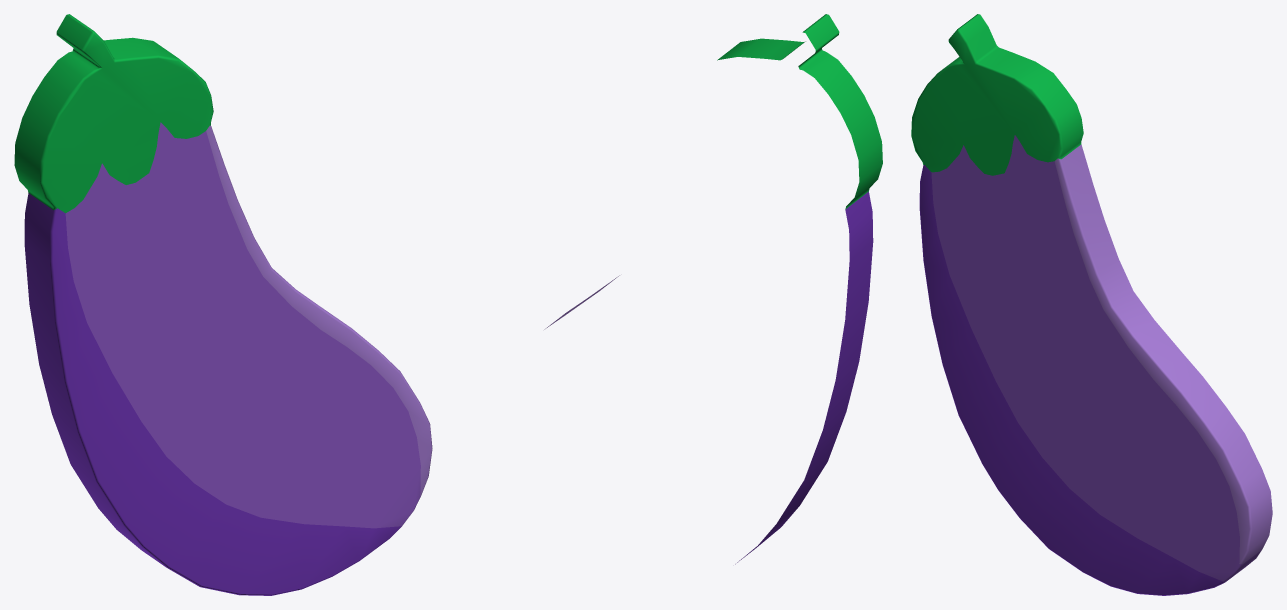
File: Store_19_Eggplant_Sign_1.glb
3 renders of one model, left to right at view 1: azimuth 30°, elevation 25°; view 2: azimuth 150°, elevation 25°; view 3: azimuth 330°, elevation 25°, orthographic. The views are drawn at different scales.
Parts seen in each view (by area): view 1: Store_19_Eggplant_Sign_1; view 2: Store_19_Eggplant_Sign_1; view 3: Store_19_Eggplant_Sign_1.
Boxes of the visible parts, x1,y1,x2,y2 form: Store_19_Eggplant_Sign_1: [14, 14, 432, 595]; Store_19_Eggplant_Sign_1: [544, 14, 882, 564]; Store_19_Eggplant_Sign_1: [911, 14, 1272, 595].
Size of the model in its own units: 0.3561 by 0.5225 by 0.0454.
1 material, 1 textured.
